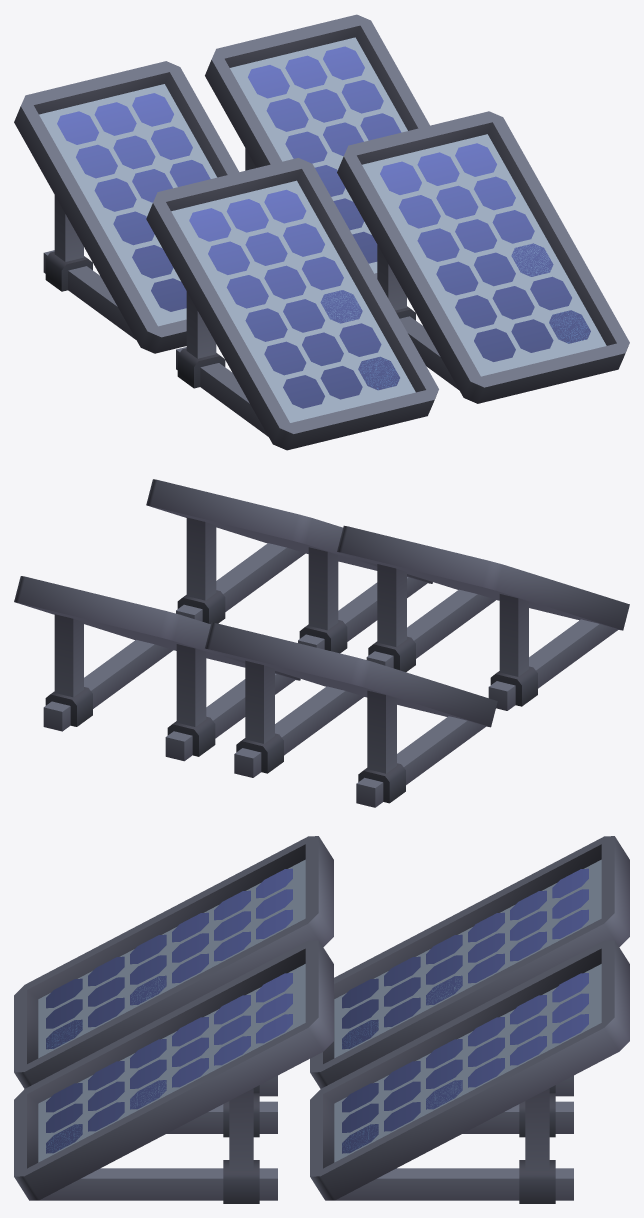
Rendered from painel-solar.glb.
3 views of the same model, one above another, from view 1: azimuth 30°, elevation 25°; view 2: azimuth 150°, elevation 25°; view 3: azimuth 270°, elevation 25° (orthographic). The views are drawn at different scales.
Visible parts, largest first — view 1: modelo; view 2: modelo; view 3: modelo.
Boxes of the visible parts, <box> form: modelo: <box>14,14,629,450</box>; modelo: <box>14,479,629,807</box>; modelo: <box>14,836,629,1203</box>.
Bounding box in the file's own units: 1.67 × 0.747 × 2.28.
